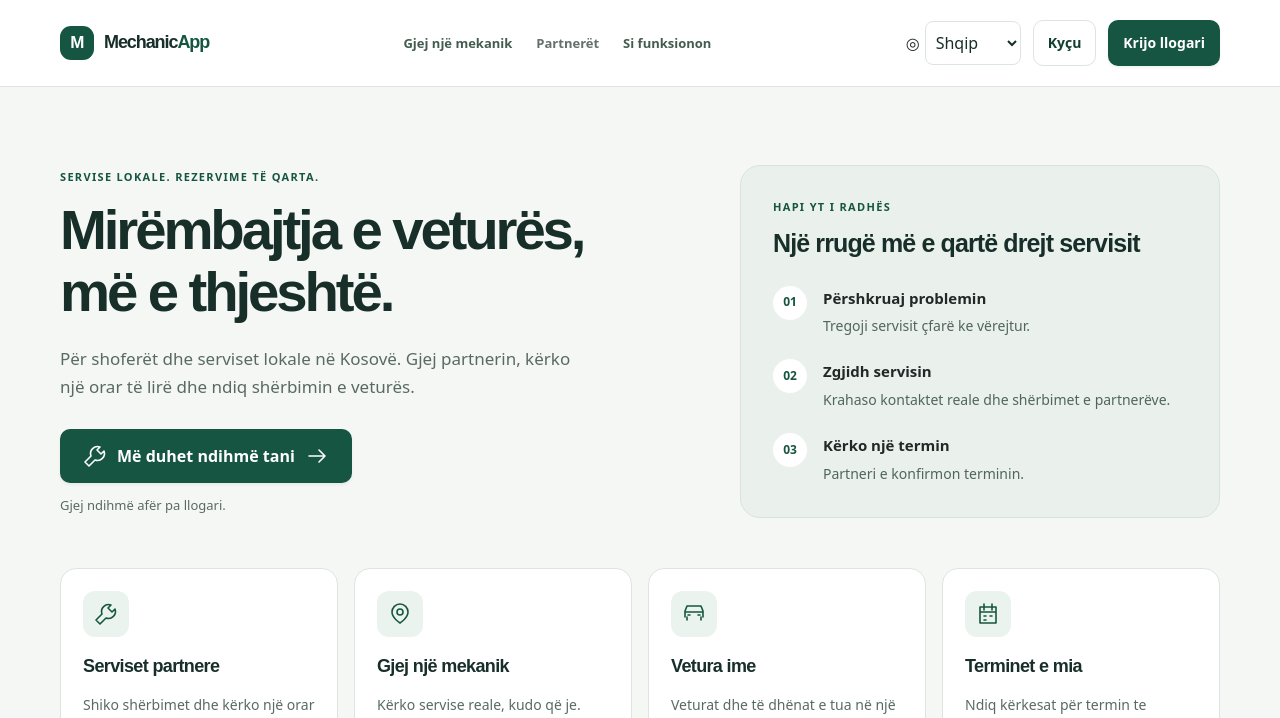
Test: App public access › shows the public overview first and opens login only when requested
The image size is (1280, 718).
Expected: the heading "Mirëmbajtja e veturës, më e thjeshtë." is shown, [60, 198, 583, 323]
What coordinates should you click on to do the following:
click the button "Kyçu"
I would click on:
 (1065, 43)
Its box is [1033, 20, 1096, 66].
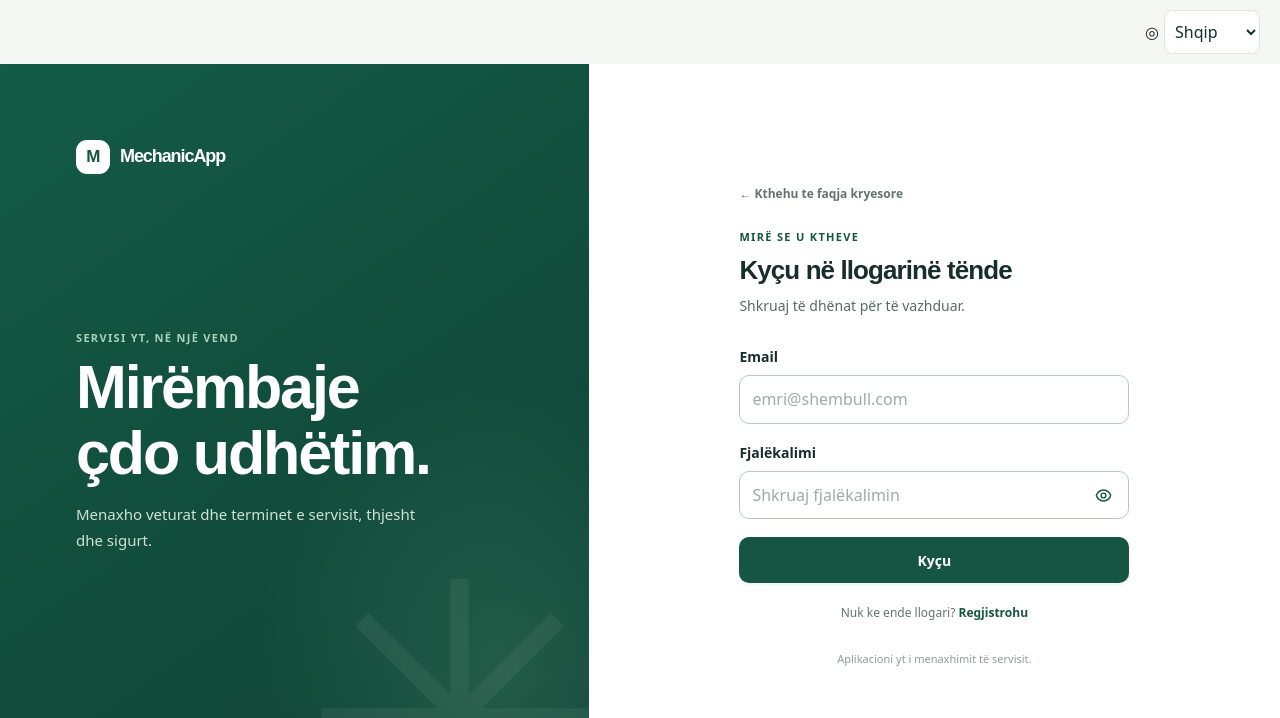
Result: the heading "Kyçu në llogarinë tënde" is shown at [739, 255, 1012, 285]
What coordinates should you click on to do the following:
click the button "← Kthehu te faqja kryesore"
I would click on:
 (821, 194)
Its box is [739, 185, 903, 203].
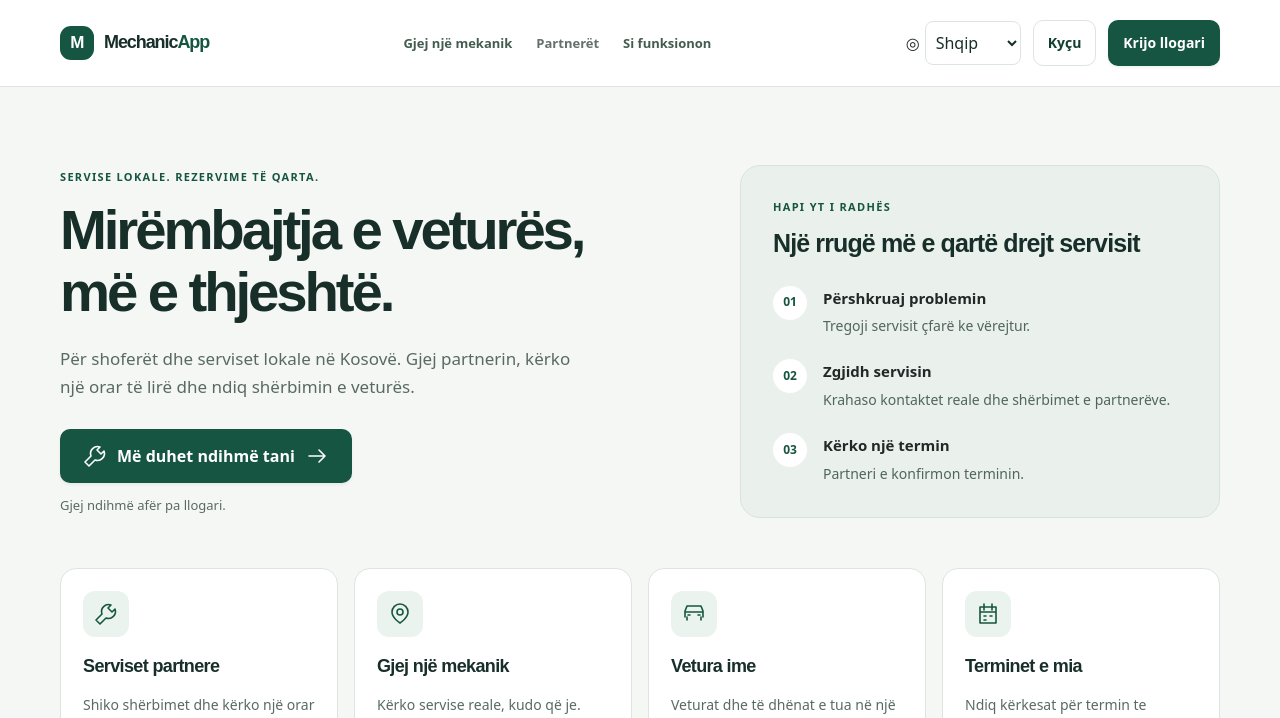
Result: the heading "Mirëmbajtja e veturës, më e thjeshtë." is shown at [60, 198, 583, 323]
